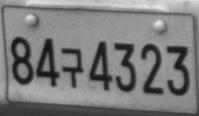2: (139, 42, 164, 94)
3: (166, 44, 190, 96), (114, 42, 137, 92)
4: (35, 38, 59, 87), (89, 41, 112, 90)
8: (9, 35, 34, 86)
구: (60, 47, 83, 87)
